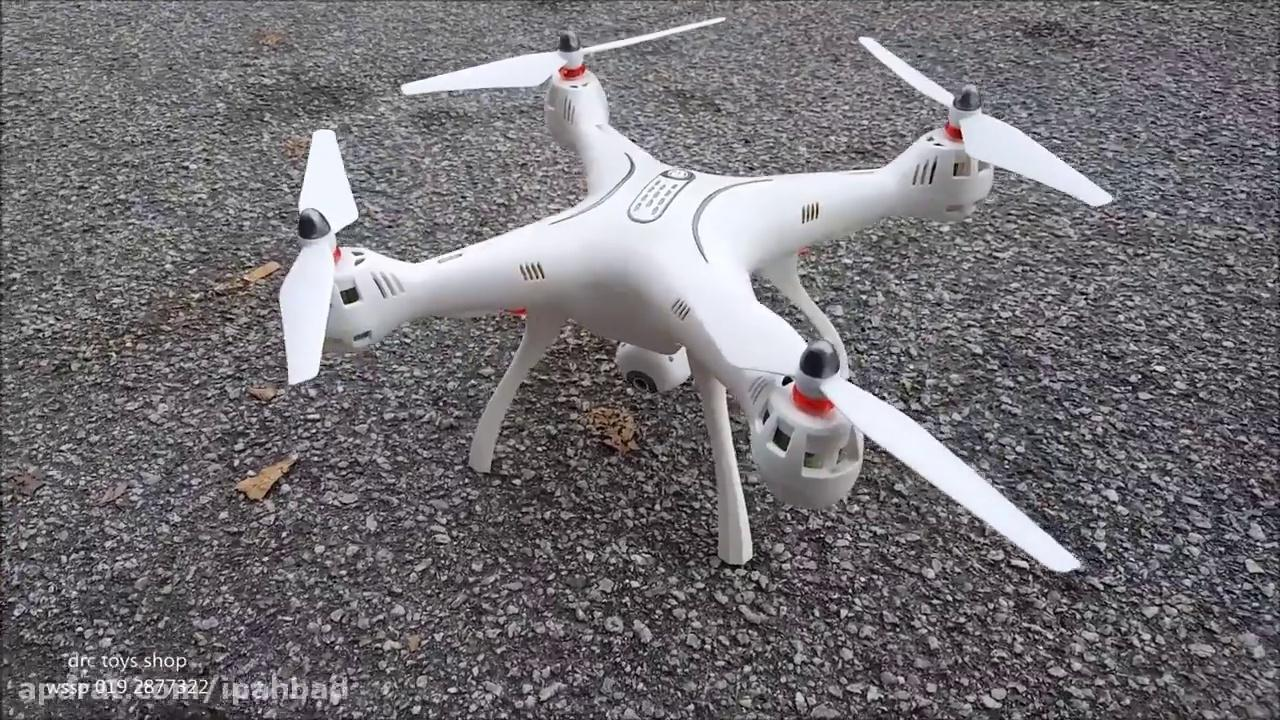drone: (272, 11, 1120, 585)
